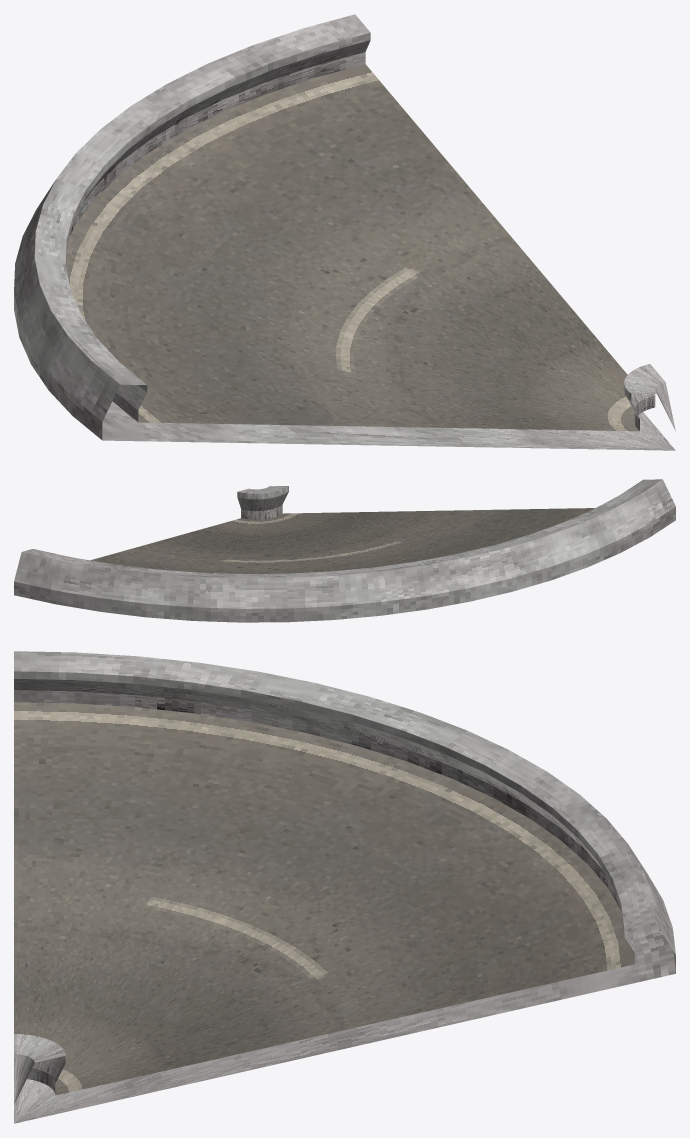
The model's file is road-Turn-HalfBankedRight-HalfBankedRight-Even-Right-Size1.glb.
The picture shows the model from 3 angles, top to bottom: view 1: azimuth 30°, elevation 25°; view 2: azimuth 150°, elevation 25°; view 3: azimuth 270°, elevation 25°; orthographic projection. The views are drawn at different scales.
Parts seen in each view (by area): view 1: road-Turn-HalfBankedRight-HalfBankedRight-Even-Right-Size1; view 2: road-Turn-HalfBankedRight-HalfBankedRight-Even-Right-Size1; view 3: road-Turn-HalfBankedRight-HalfBankedRight-Even-Right-Size1.
Part boxes in pixels (box(x1,y1,x2,y2)): road-Turn-HalfBankedRight-HalfBankedRight-Even-Right-Size1: box(14, 14, 675, 450); road-Turn-HalfBankedRight-HalfBankedRight-Even-Right-Size1: box(14, 479, 675, 622); road-Turn-HalfBankedRight-HalfBankedRight-Even-Right-Size1: box(14, 651, 675, 1123).
Size of the model in its own units: 1 by 0.3359 by 1.
2 materials, 2 textured.
